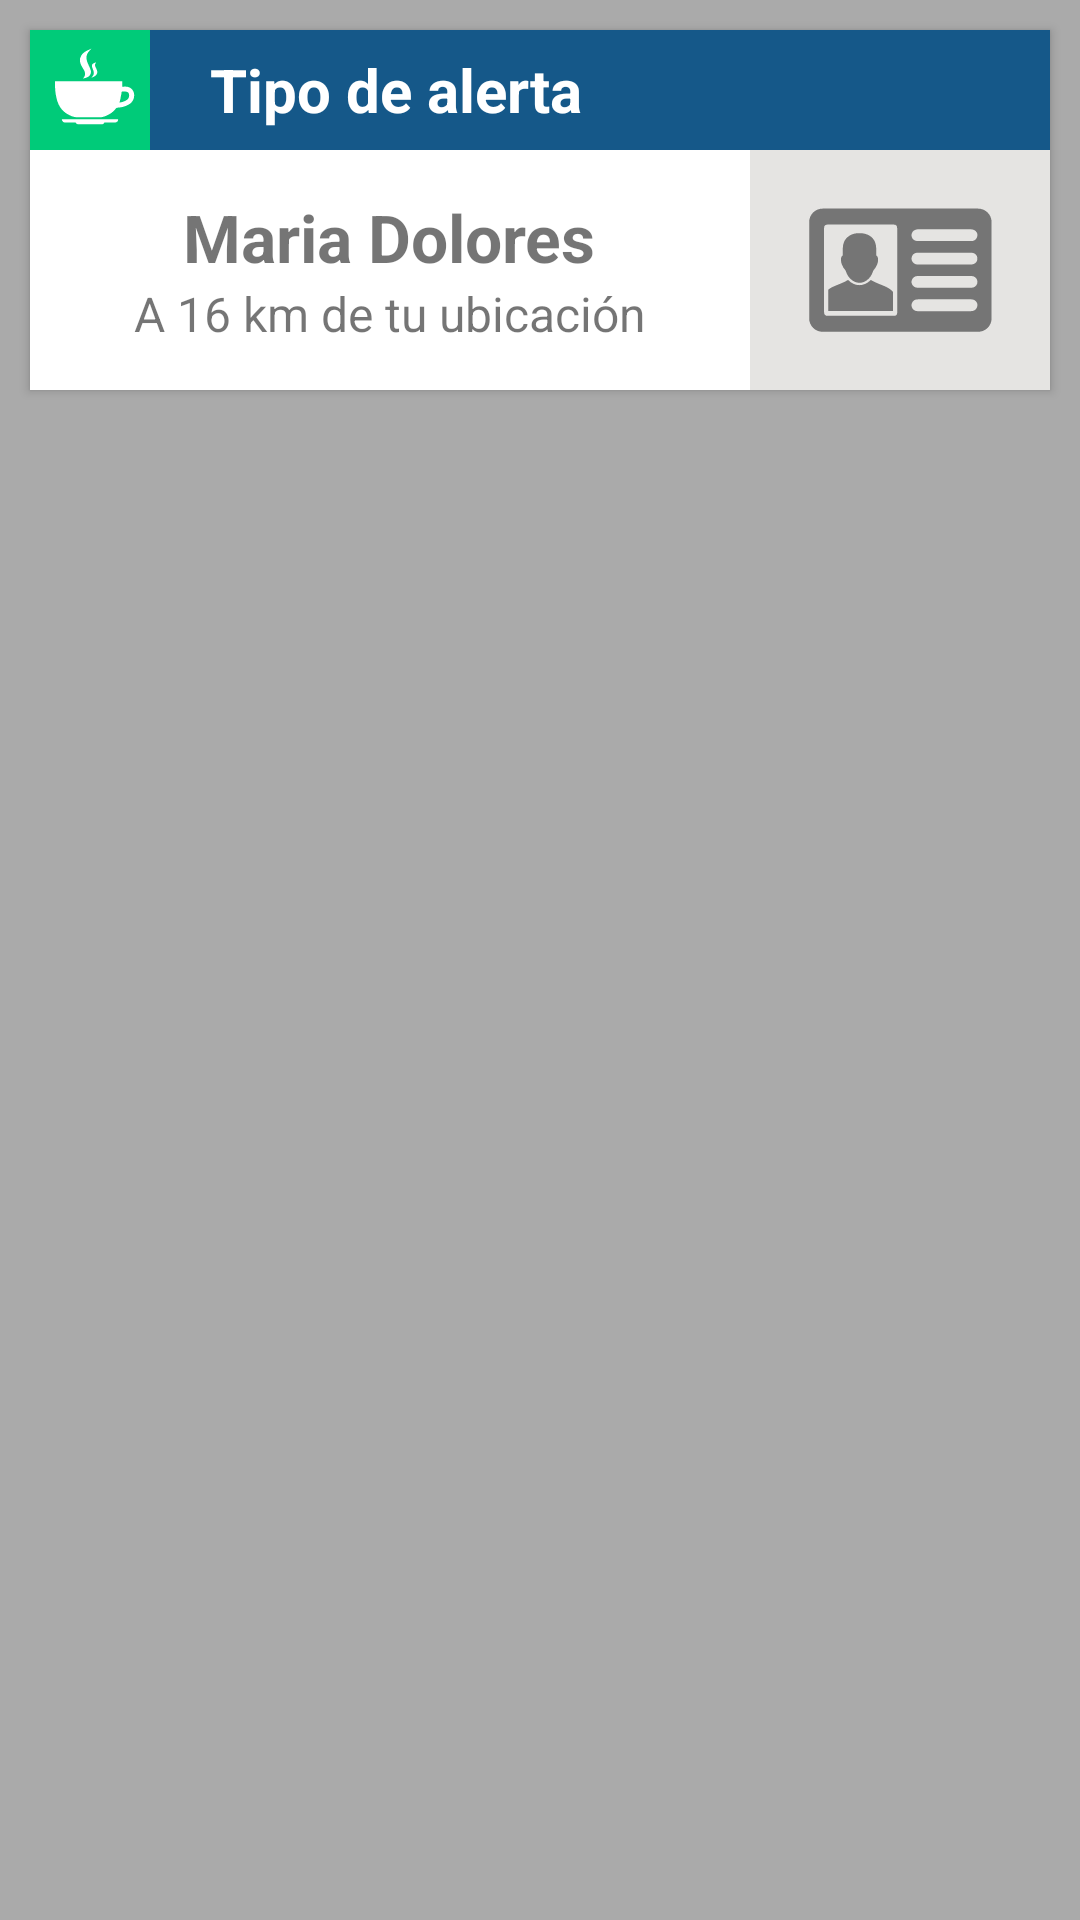

Where to tap for icons on this 1080x1920 app screen, as point (x, y):
coffee: point (90, 90)
profile details: point (900, 270)
